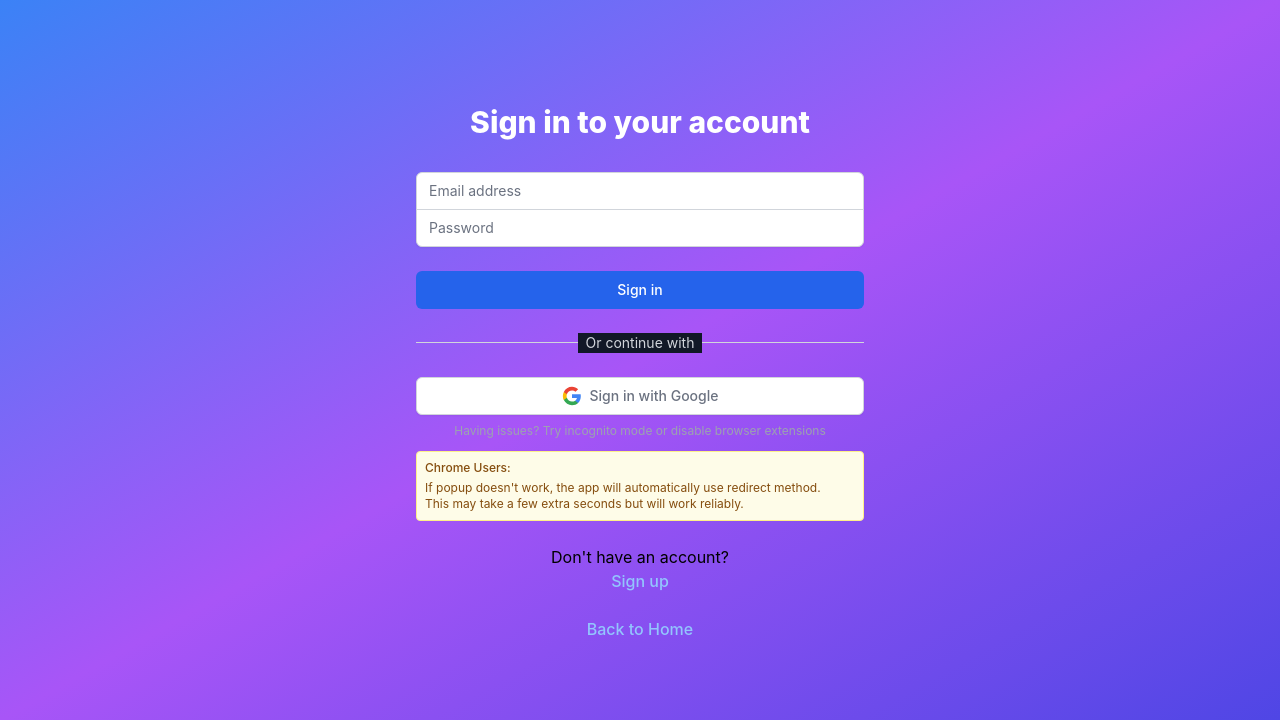
Test case: Login Page › Email/Password Authentication › shows loading state during authentication
Type "test@example.com" into the field with placeholder "Email address" at (640, 190), box x1=416 y1=172 x2=864 y2=210
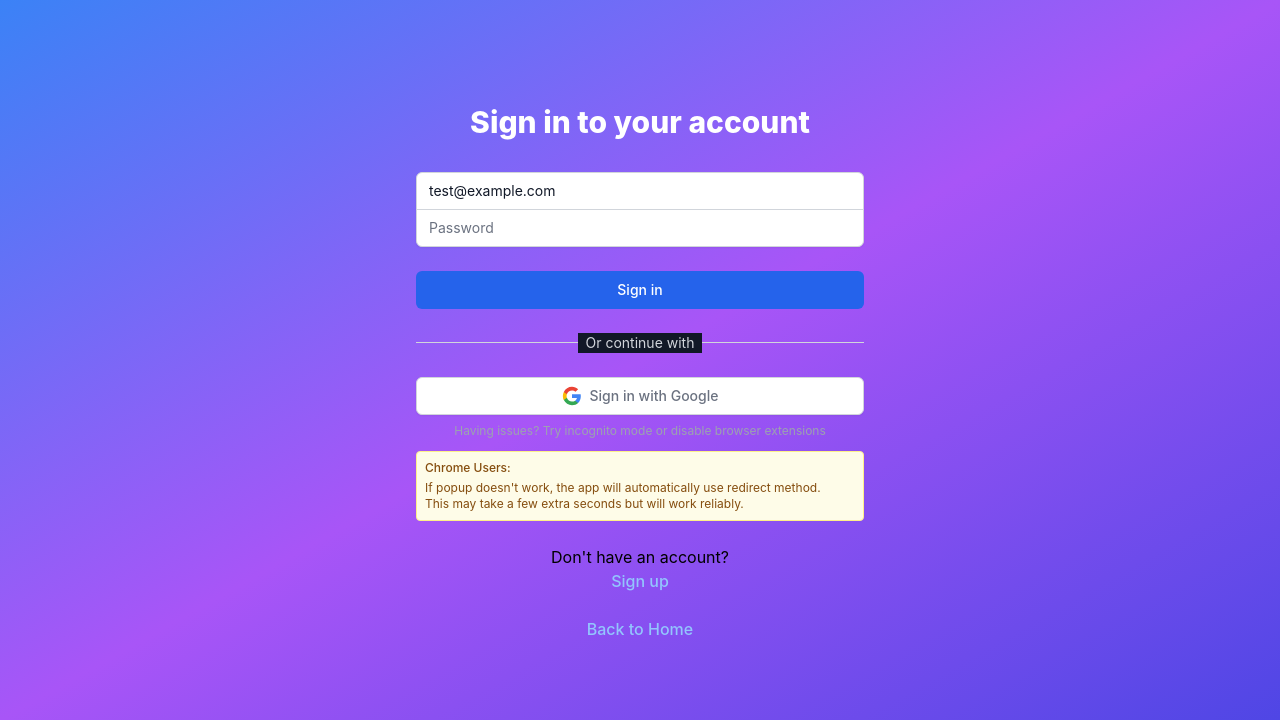
Type "password123" into the password field with placeholder "Password" at (640, 228), box x1=416 y1=208 x2=864 y2=246
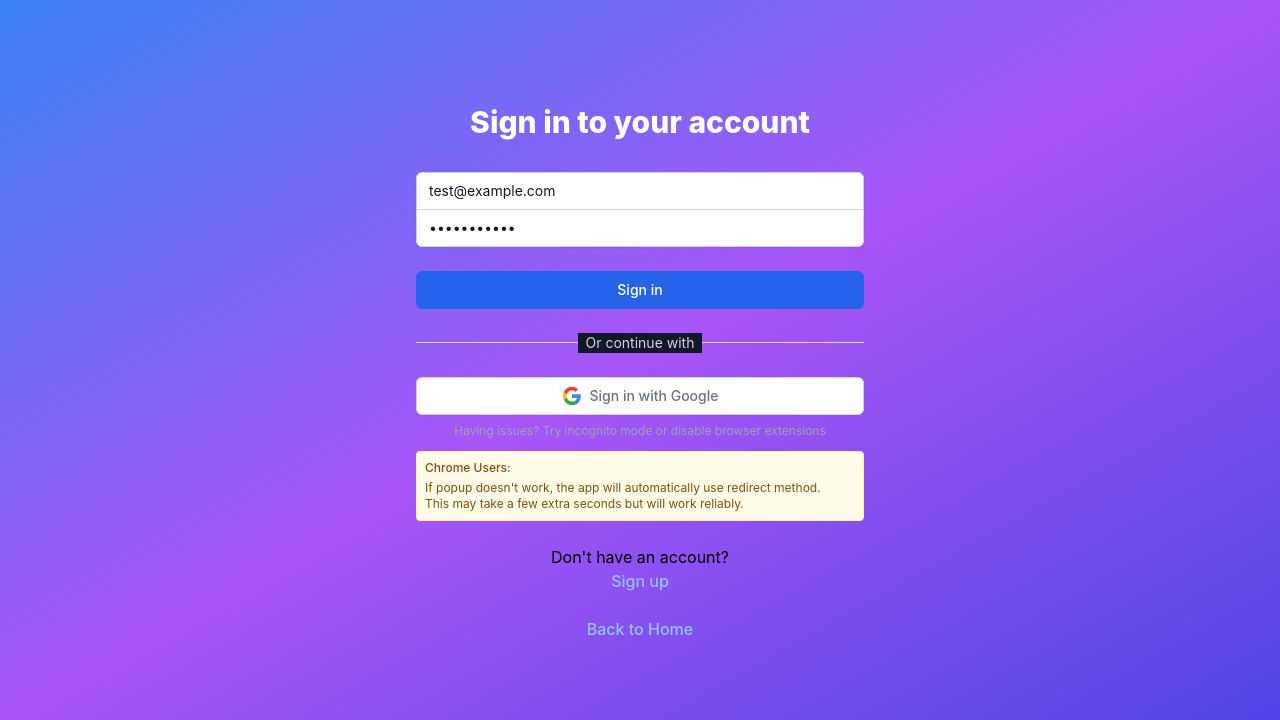
Click the button "Sign in" at (640, 290), box x1=416 y1=270 x2=864 y2=308
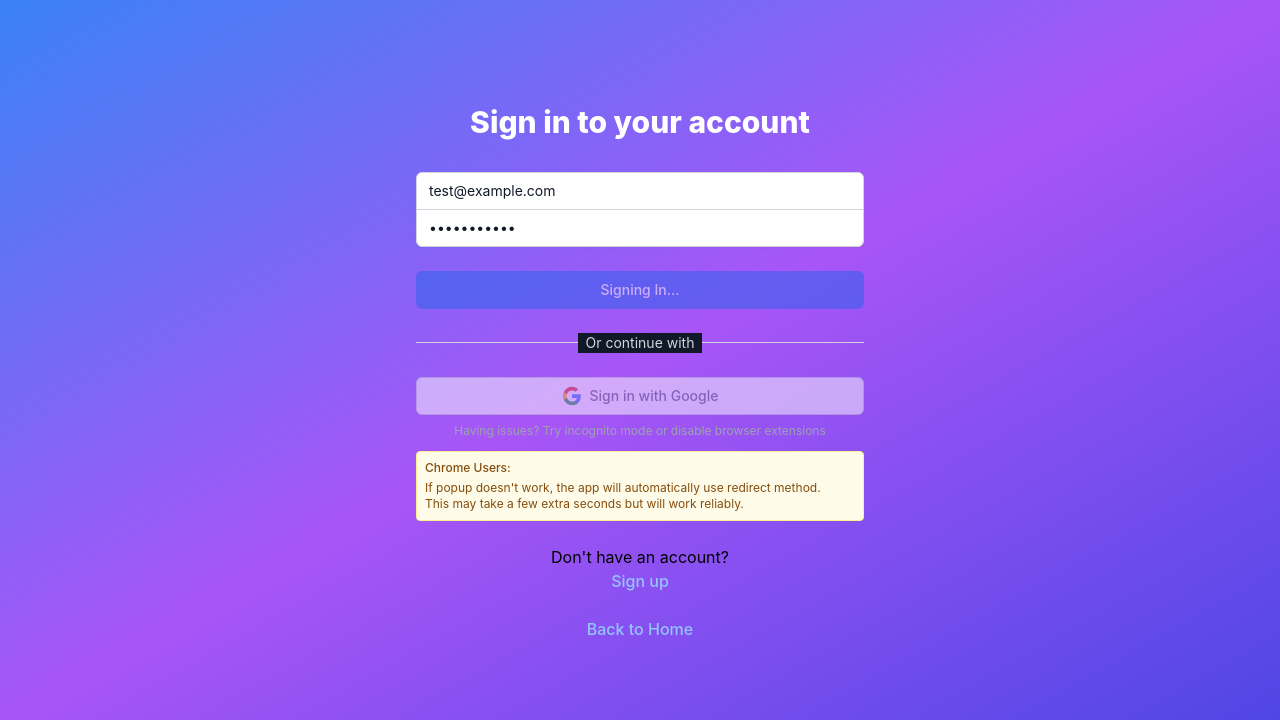
Check: the button "Signing In..." is disabled, box x1=416 y1=270 x2=864 y2=308
